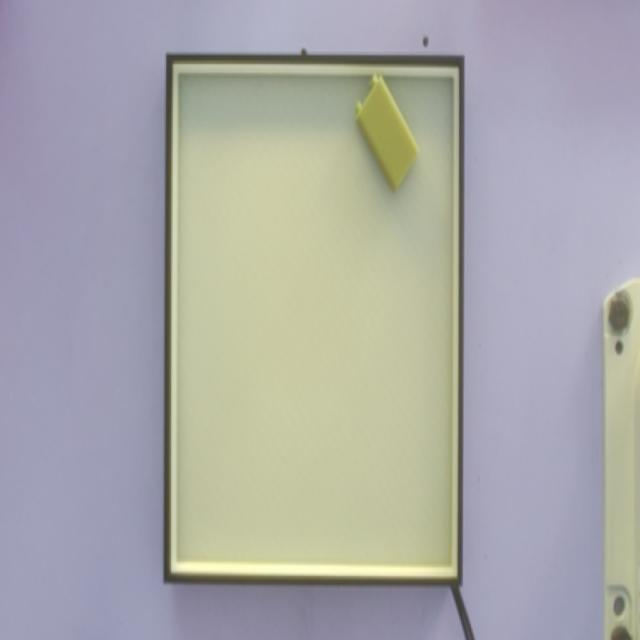bateria: (355, 73, 420, 194)
mesa: (164, 54, 465, 586)
